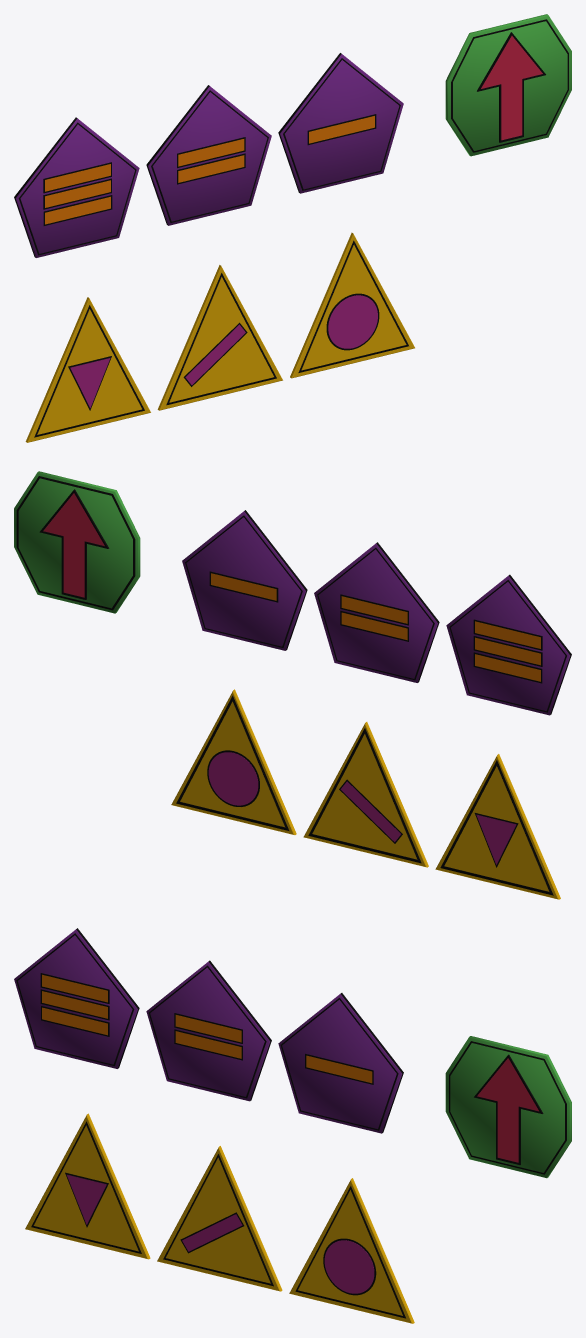
The model's file is stopSigns.fbx.
3 views of the same model, one above another, from view 1: azimuth 30°, elevation 25°; view 2: azimuth 150°, elevation 25°; view 3: azimuth 330°, elevation 25° (orthographic).
Parts seen in each view (by area): view 1: hexagonArrow, outer_Pentagon2Line, outer_Pentagon2Line.001, outer_Pentagon2Line.002, outer_TriangleCircle.005, outer_TriangleCircle.004, outer_TriangleCircle.001, outer_TriangleCircle.003, outer_TriangleDown.003, inner_Pentagon2Line, inner_Pentagon2Line.005, inner_Pentagon2Line.003 (+4 smaller); view 2: hexagonArrow, outer_Pentagon2Line, outer_Pentagon2Line.001, outer_Pentagon2Line.002, outer_TriangleCircle.005, outer_TriangleCircle.004, outer_TriangleCircle.001, outer_TriangleCircle.003, outer_TriangleDown.003, inner_Pentagon2Line.005, inner_Pentagon2Line.004, inner_Pentagon2Line (+4 smaller); view 3: hexagonArrow, outer_Pentagon2Line, outer_Pentagon2Line.001, outer_Pentagon2Line.002, outer_TriangleCircle.005, outer_TriangleCircle.004, outer_TriangleCircle.001, outer_TriangleCircle.003, outer_TriangleDown.003, inner_Pentagon2Line.003, inner_Pentagon2Line.004, inner_Pentagon2Line.001 (+4 smaller).
Part boxes in pixels (<box>): hexagonArrow: <box>445,14,571,156</box>; outer_Pentagon2Line: <box>278,53,403,193</box>; outer_Pentagon2Line.001: <box>146,85,271,225</box>; outer_Pentagon2Line.002: <box>14,117,139,257</box>; outer_TriangleCircle.005: <box>157,265,282,410</box>; outer_TriangleCircle.004: <box>25,297,150,442</box>; outer_TriangleCircle.001: <box>290,232,414,378</box>; outer_TriangleCircle.003: <box>326,293,379,350</box>; outer_TriangleDown.003: <box>68,356,111,410</box>; inner_Pentagon2Line: <box>307,114,376,145</box>; inner_Pentagon2Line.005: <box>43,195,112,225</box>; inner_Pentagon2Line.003: <box>43,178,111,209</box>; hexagonArrow: <box>14,471,140,613</box>; outer_Pentagon2Line: <box>182,510,307,650</box>; outer_Pentagon2Line.001: <box>314,542,439,682</box>; outer_Pentagon2Line.002: <box>446,574,571,715</box>; outer_TriangleCircle.005: <box>303,722,428,867</box>; outer_TriangleCircle.004: <box>435,754,560,899</box>; outer_TriangleCircle.001: <box>171,689,296,834</box>; outer_TriangleCircle.003: <box>207,750,259,806</box>; outer_TriangleDown.003: <box>474,813,518,867</box>; inner_Pentagon2Line.005: <box>473,652,542,683</box>; inner_Pentagon2Line.004: <box>473,619,542,650</box>; inner_Pentagon2Line: <box>209,571,278,602</box>; hexagonArrow: <box>445,1036,571,1178</box>; outer_Pentagon2Line: <box>278,993,403,1133</box>; outer_Pentagon2Line.001: <box>146,960,271,1101</box>; outer_Pentagon2Line.002: <box>14,928,139,1068</box>; outer_TriangleCircle.005: <box>157,1146,282,1291</box>; outer_TriangleCircle.004: <box>25,1113,150,1259</box>; outer_TriangleCircle.001: <box>289,1178,414,1323</box>; outer_TriangleCircle.003: <box>323,1238,376,1295</box>; outer_TriangleDown.003: <box>65,1172,108,1227</box>; inner_Pentagon2Line.003: <box>40,989,109,1020</box>; inner_Pentagon2Line.004: <box>40,973,109,1003</box>; inner_Pentagon2Line.001: <box>174,1013,242,1043</box>.
Bounding box in the file's own units: 673 × 361 × 8.41.
7 materials, 7 textured.
